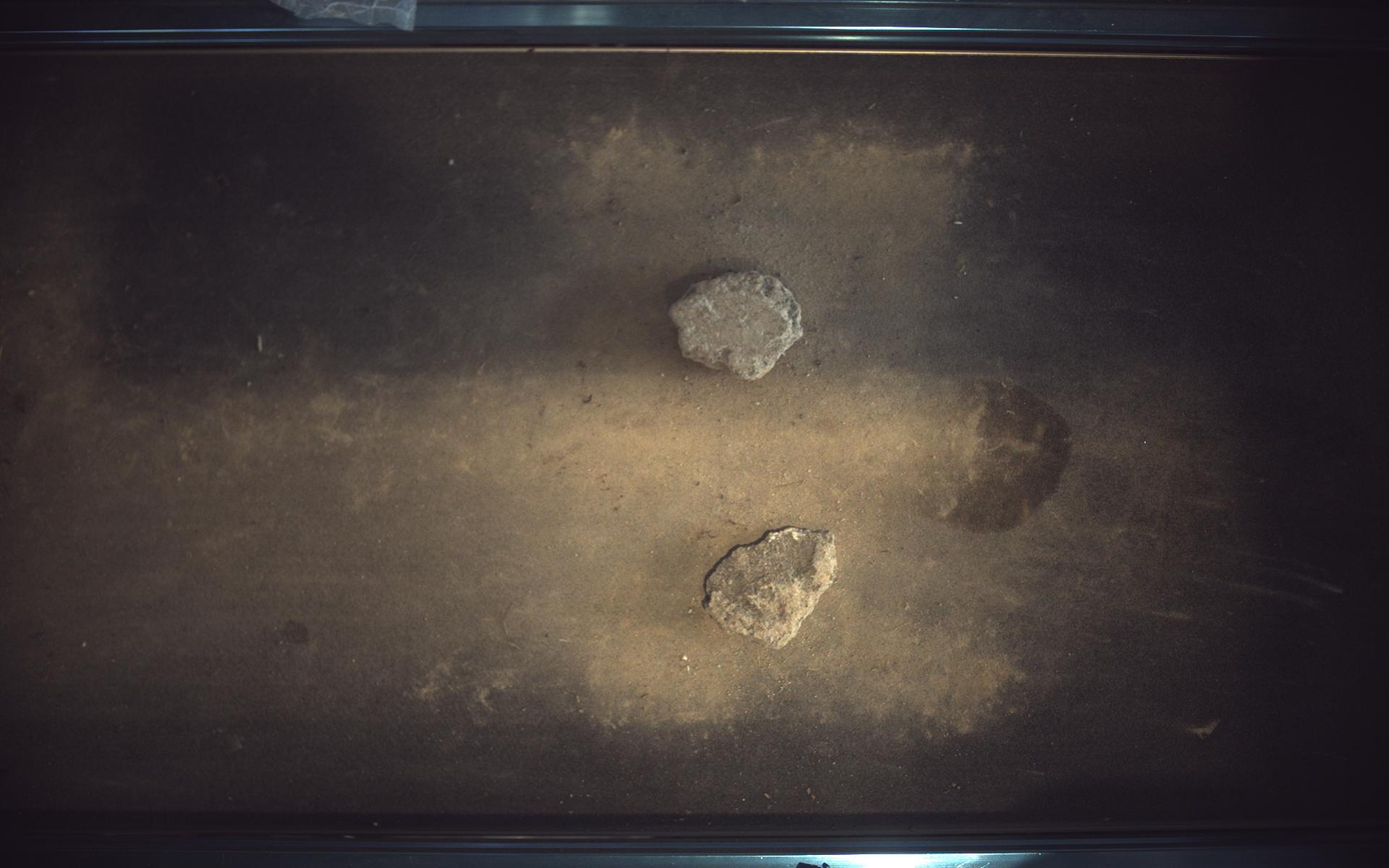stone: (705, 527, 838, 650), (670, 270, 804, 380)
